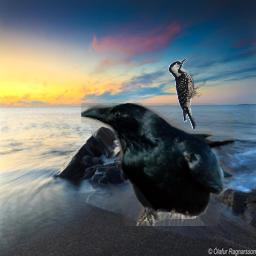Crow: (81, 103, 235, 226)
Woodpecker: (168, 57, 206, 129)
